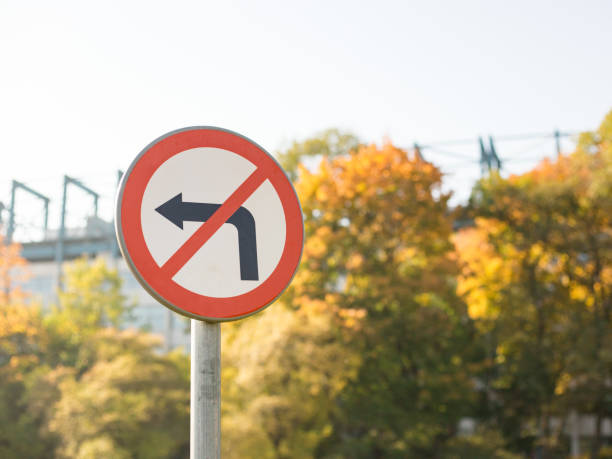sola_girilmez: (117, 123, 307, 326)
